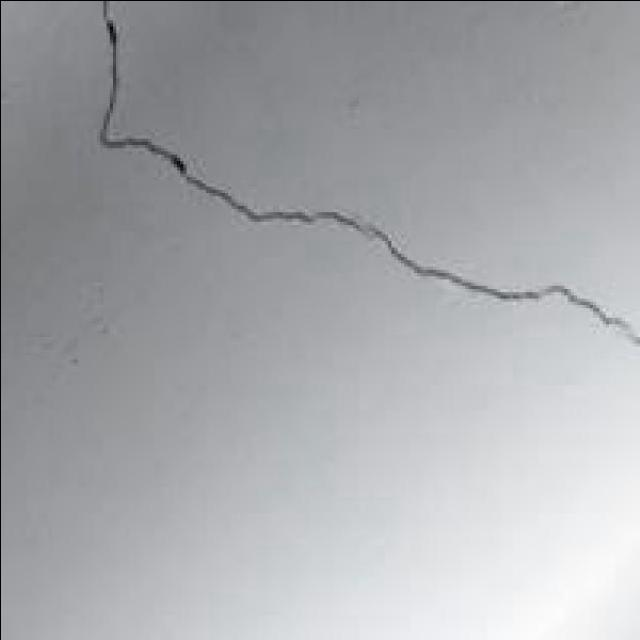SurfaceCrack: (68, 0, 640, 382)
